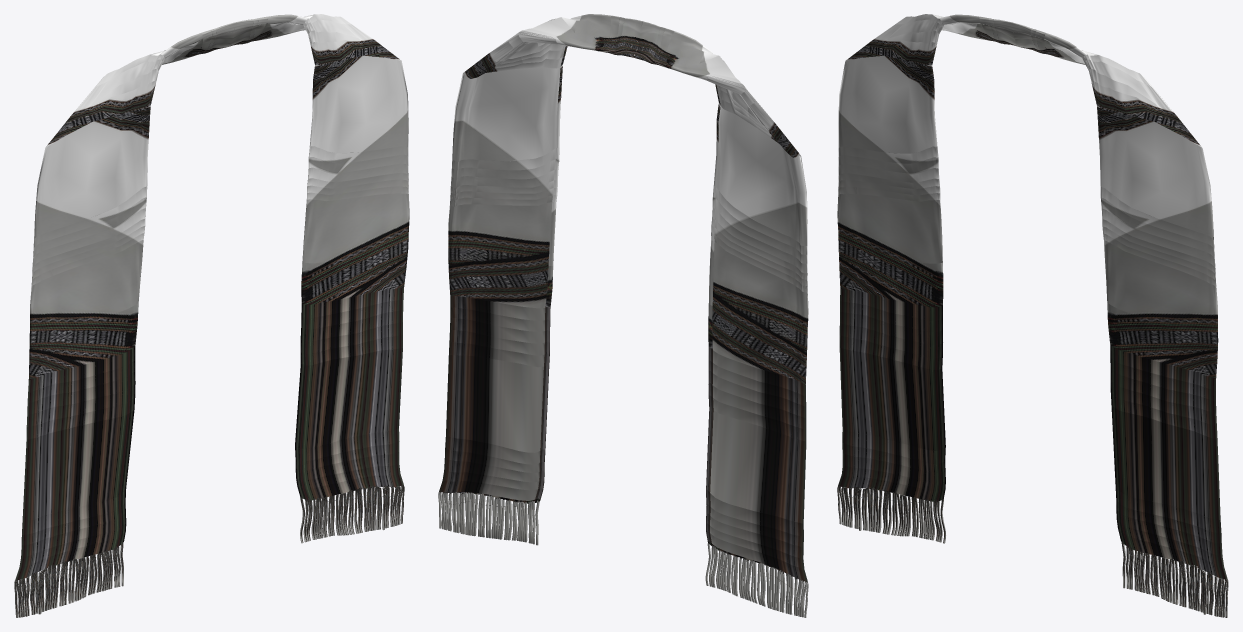
File: sash_with_picture.glb
3 renders of one model, left to right at view 1: azimuth 30°, elevation 25°; view 2: azimuth 150°, elevation 25°; view 3: azimuth 330°, elevation 25°, orthographic. The views are drawn at different scales.
Visible parts, largest first — view 1: plain_section, stripe_1, stripe_2, mid_stripes; view 2: plain_section, stripe_1, stripe_2, mid_stripes; view 3: plain_section, stripe_1, stripe_2, mid_stripes.
Boxes of the visible parts, x1,y1,x2,y2 form: plain_section: (14, 14, 409, 617); stripe_1: (15, 14, 403, 580); stripe_2: (19, 19, 403, 567); mid_stripes: (21, 30, 403, 557); plain_section: (438, 14, 808, 617); stripe_1: (439, 17, 807, 582); stripe_2: (442, 41, 806, 568); mid_stripes: (444, 44, 806, 558); plain_section: (837, 14, 1228, 617); stripe_1: (838, 14, 1227, 579); stripe_2: (839, 19, 1223, 566); mid_stripes: (840, 30, 1222, 556).
Size of the model in its own units: 1.63 by 2.26 by 0.1773.
1 material, 1 textured.
